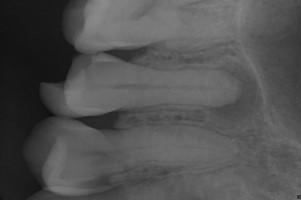Furcation Involvement: (209, 59, 265, 121)
